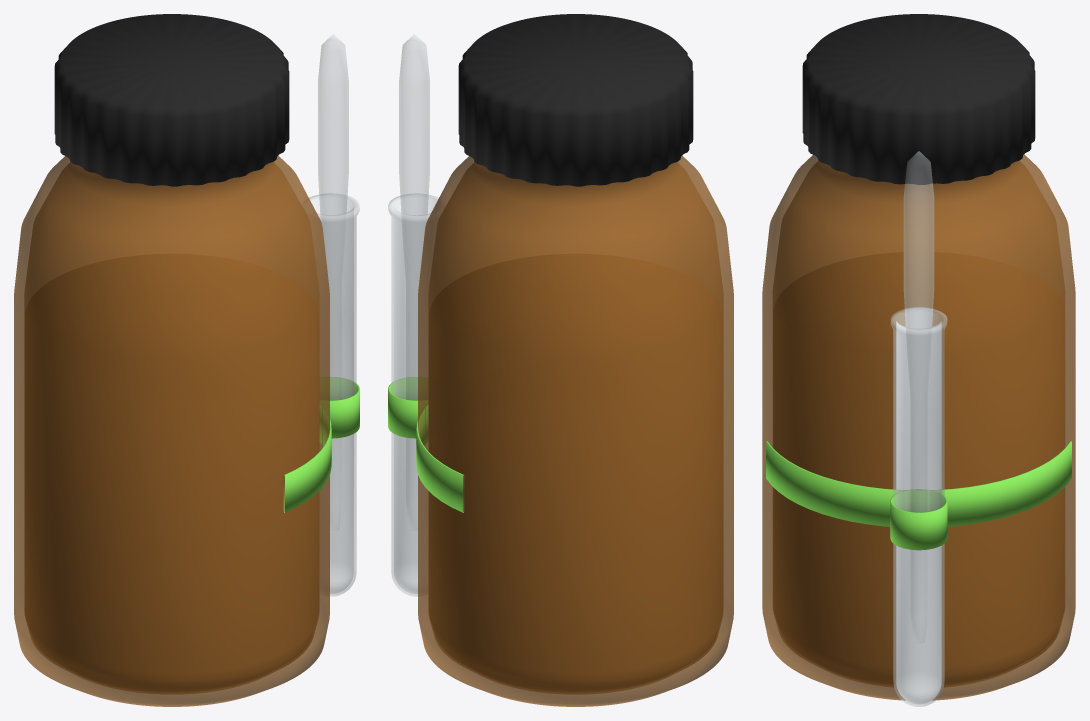
File: ReagentBottleWithTube.fbx
3 views of the same model, side by side, from view 1: azimuth 30°, elevation 25°; view 2: azimuth 150°, elevation 25°; view 3: azimuth 270°, elevation 25° (orthographic).
Visible parts, largest first — view 1: Bottle_Glass, Bottle_Liquid, Bottle_Cap, TestTube, Pipette, Tape_Bottle, Tape_Tube; view 2: Bottle_Glass, Bottle_Liquid, Bottle_Cap, TestTube, Pipette, Tape_Bottle, Tape_Tube; view 3: Bottle_Glass, Bottle_Liquid, Bottle_Cap, TestTube, Tape_Bottle, Pipette, Tape_Tube.
Part boxes in pixels (bbox=[...]): Bottle_Glass: bbox=[14, 155, 329, 706]; Bottle_Liquid: bbox=[25, 254, 318, 692]; Bottle_Cap: bbox=[54, 14, 289, 186]; TestTube: bbox=[309, 193, 359, 596]; Pipette: bbox=[318, 34, 348, 530]; Tape_Bottle: bbox=[283, 404, 331, 512]; Tape_Tube: bbox=[320, 377, 359, 438]; Bottle_Glass: bbox=[418, 155, 733, 706]; Bottle_Liquid: bbox=[429, 254, 722, 692]; Bottle_Cap: bbox=[458, 14, 693, 186]; TestTube: bbox=[388, 193, 438, 596]; Pipette: bbox=[399, 34, 429, 530]; Tape_Bottle: bbox=[416, 404, 464, 512]; Tape_Tube: bbox=[388, 377, 427, 438]; Bottle_Glass: bbox=[762, 154, 1075, 700]; Bottle_Liquid: bbox=[774, 252, 1063, 684]; Bottle_Cap: bbox=[802, 14, 1035, 184]; TestTube: bbox=[891, 307, 946, 706]; Tape_Bottle: bbox=[766, 441, 1071, 526]; Pipette: bbox=[904, 151, 933, 643]; Tape_Tube: bbox=[890, 489, 947, 550].
Size of the model in its own units: 0.1079 by 0.19 by 0.092.
